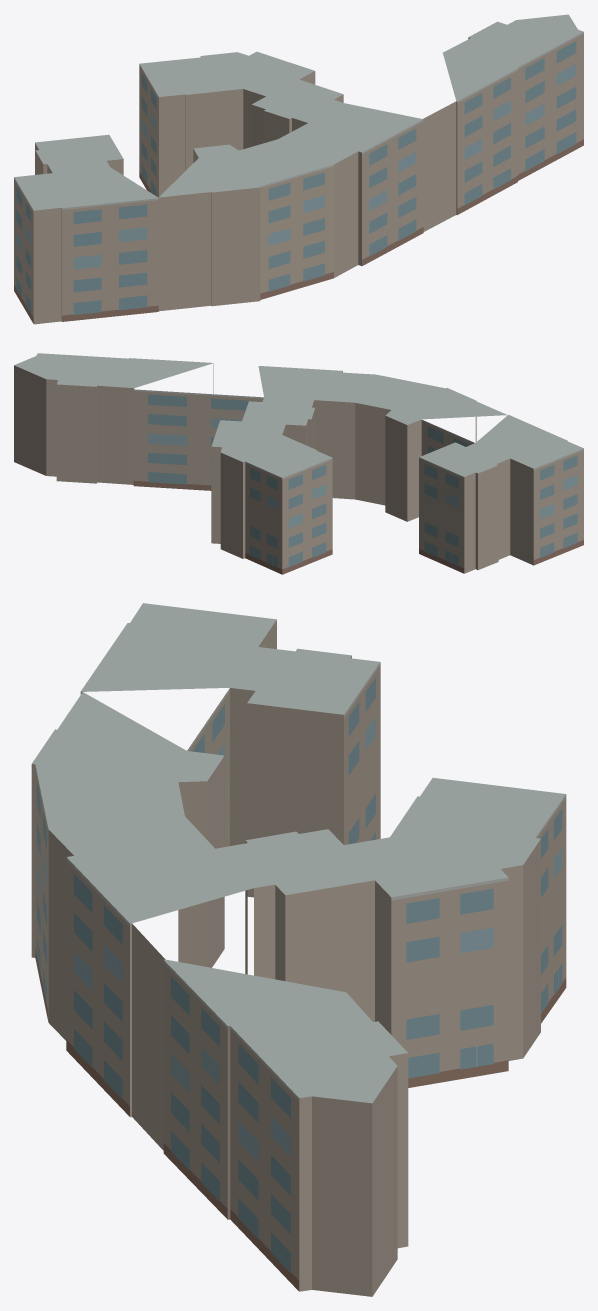
The model's file is survey-upis-32626047.glb.
3 renders of one model, top to bottom at view 1: azimuth 30°, elevation 25°; view 2: azimuth 150°, elevation 25°; view 3: azimuth 270°, elevation 25°, orthographic. The views are drawn at different scales.
Parts seen in each view (by area): view 1: survey-upis-32626047.tmp; view 2: survey-upis-32626047.tmp; view 3: survey-upis-32626047.tmp.
Part boxes in pixels (left/top/right/bottom): survey-upis-32626047.tmp: left=14, top=14, right=583, bottom=324; survey-upis-32626047.tmp: left=14, top=353, right=583, bottom=574; survey-upis-32626047.tmp: left=31, top=603, right=566, bottom=1296.
Size of the model in its own units: 84.55 by 15.25 by 38.19.
